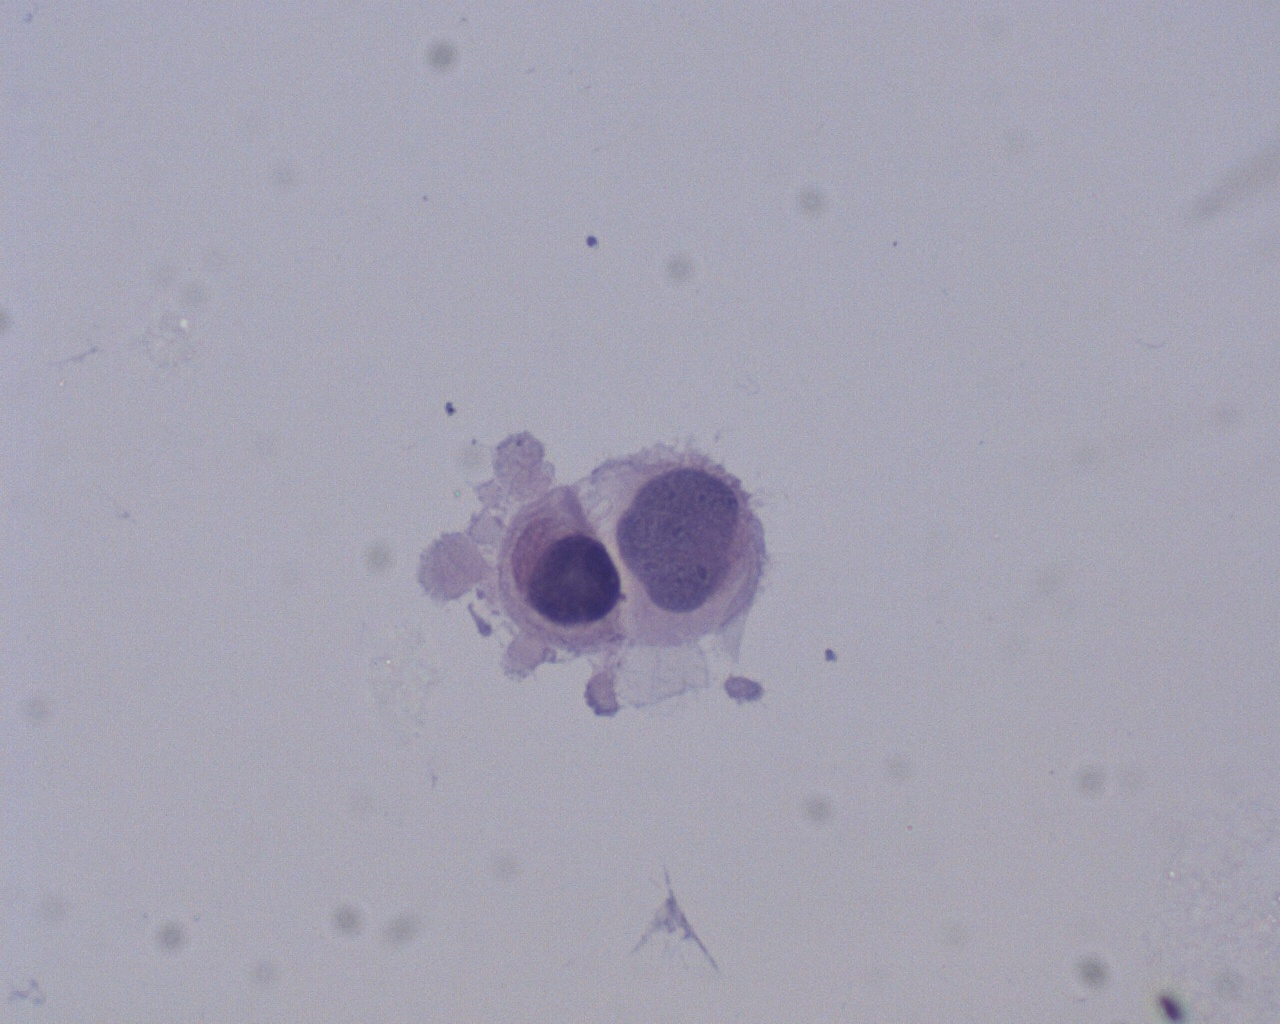ab: (579, 444, 773, 658), (504, 504, 625, 645)
